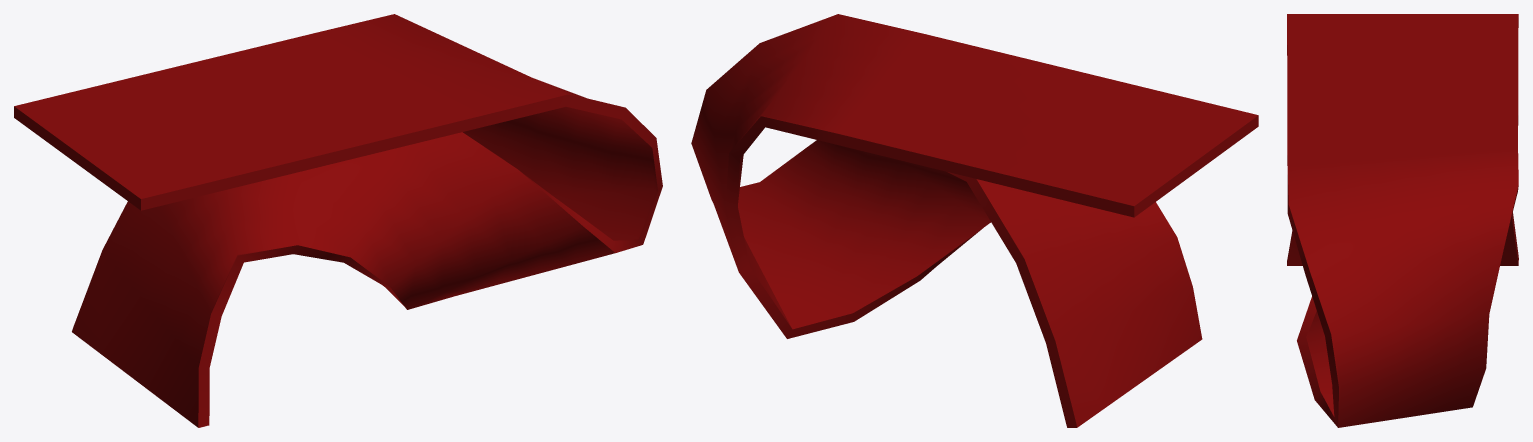
Rendered from mobius_desk_OBJ.obj.
The picture shows the model from 3 angles, left to right: view 1: azimuth 30°, elevation 25°; view 2: azimuth 150°, elevation 25°; view 3: azimuth 270°, elevation 25°; orthographic projection. The views are drawn at different scales.
Parts seen in each view (by area): view 1: mobius_desk; view 2: mobius_desk; view 3: mobius_desk.
Part boxes in pixels (x1,y1,x2,y2): mobius_desk: (14, 14, 662, 427); mobius_desk: (691, 14, 1258, 427); mobius_desk: (1287, 14, 1518, 427).
Bounding box in the file's own units: 112 × 48 × 44.89.
